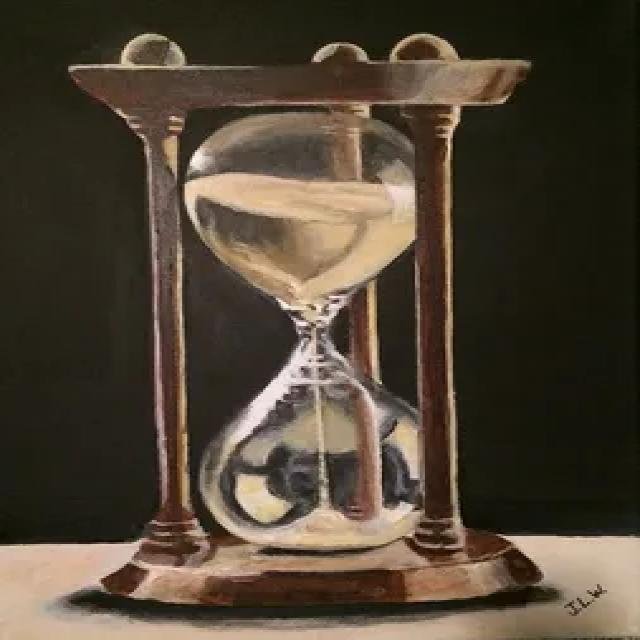clock: (71, 35, 567, 620)
